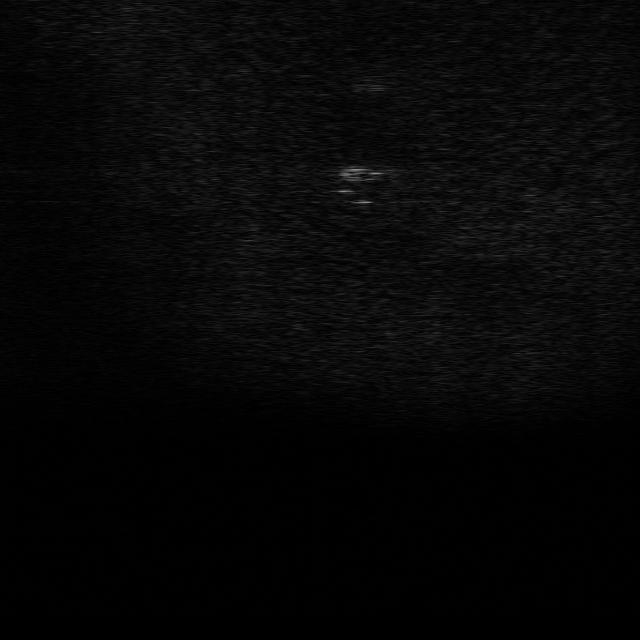plane: (332, 162, 388, 186)
